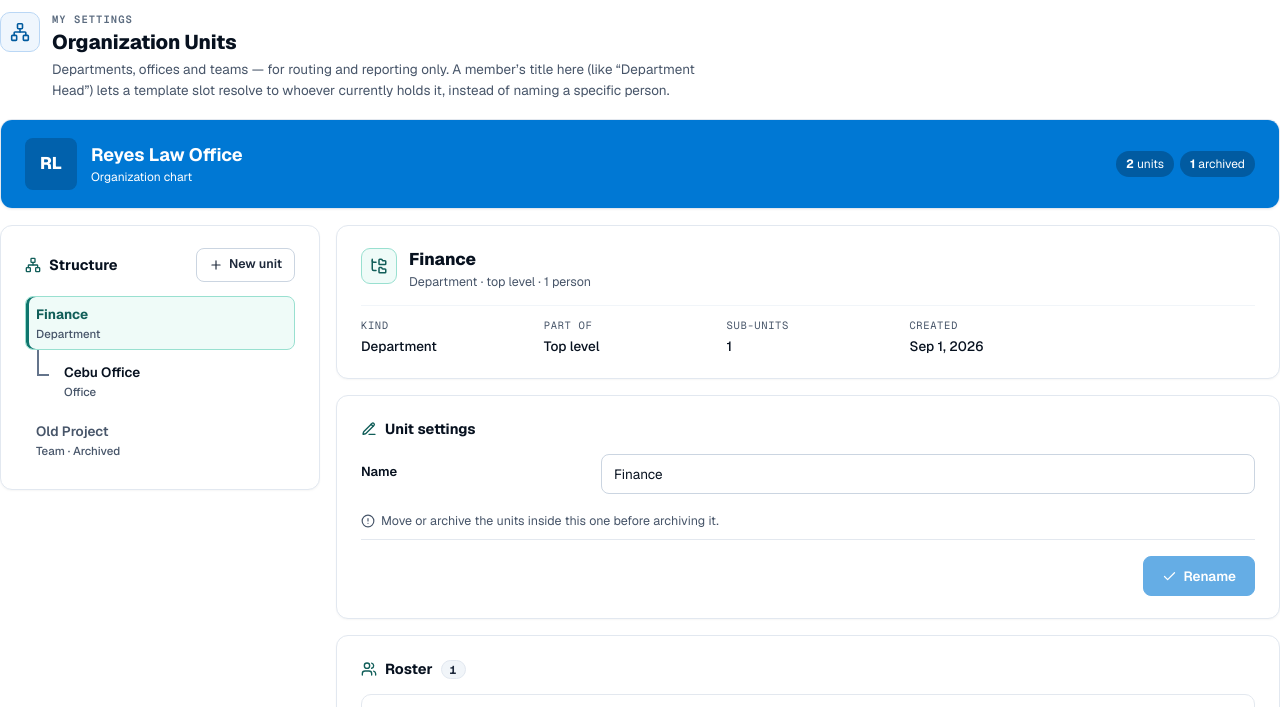
Organization Units › renames from the unit settings card, whose actions sit in the bottom-right row
Check: the buttons read "Rename", in this order, box [1144,556,1255,596]
Replace the text in the field labelled "Name" with "Finance & Treasury" at (928, 474), box [601,454,1255,494]
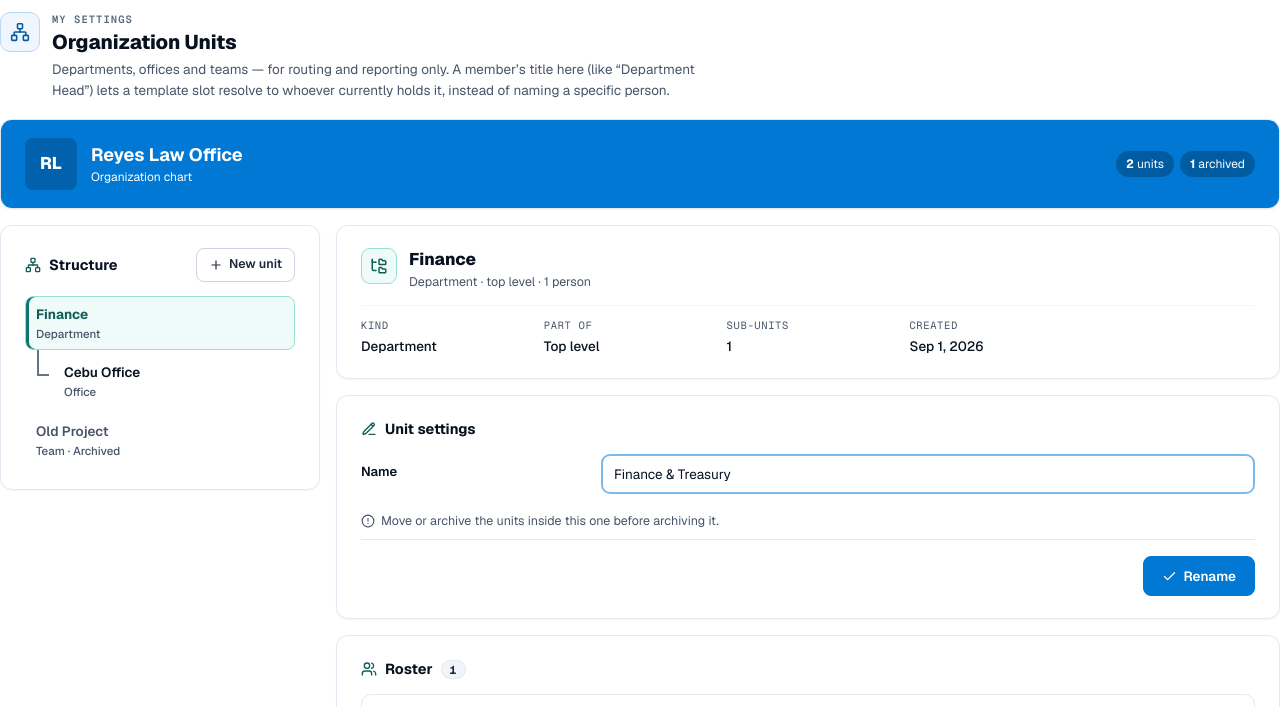
Click the button "Rename" at (1199, 576), box [1144,556,1255,596]
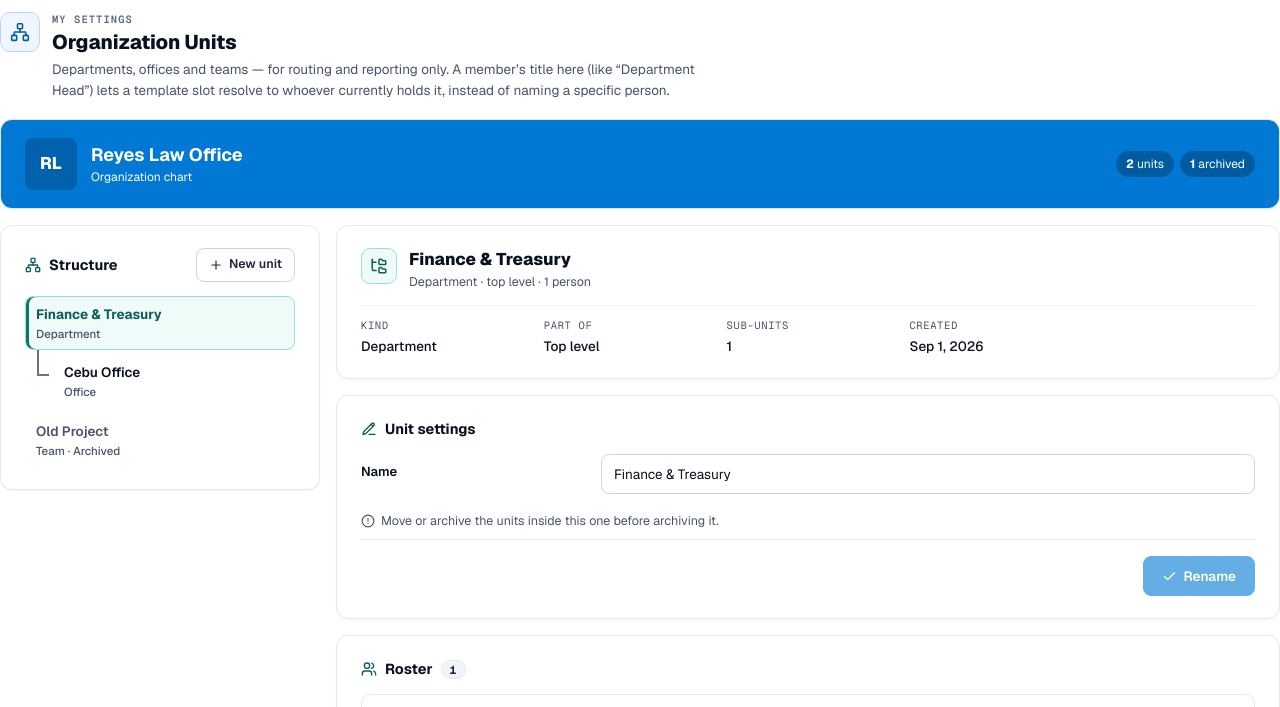
Check: the heading with test id "org-unit-title" reads "Finance & Treasury", box [409,248,571,270]
